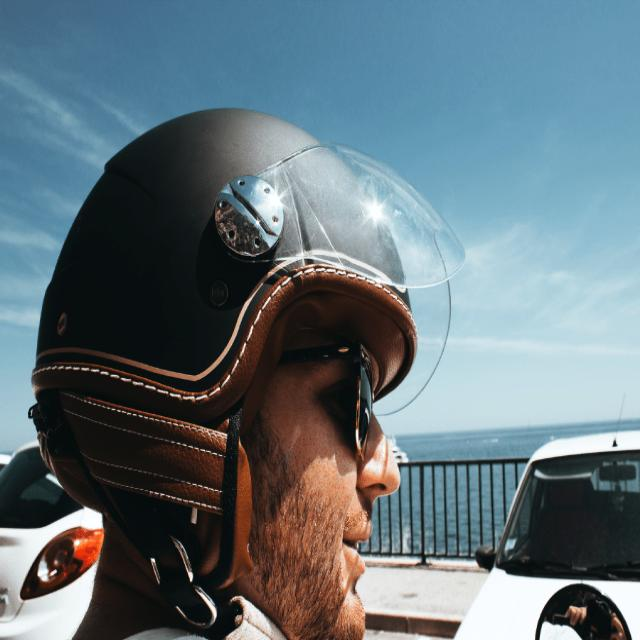helmet: (33, 109, 463, 420)
